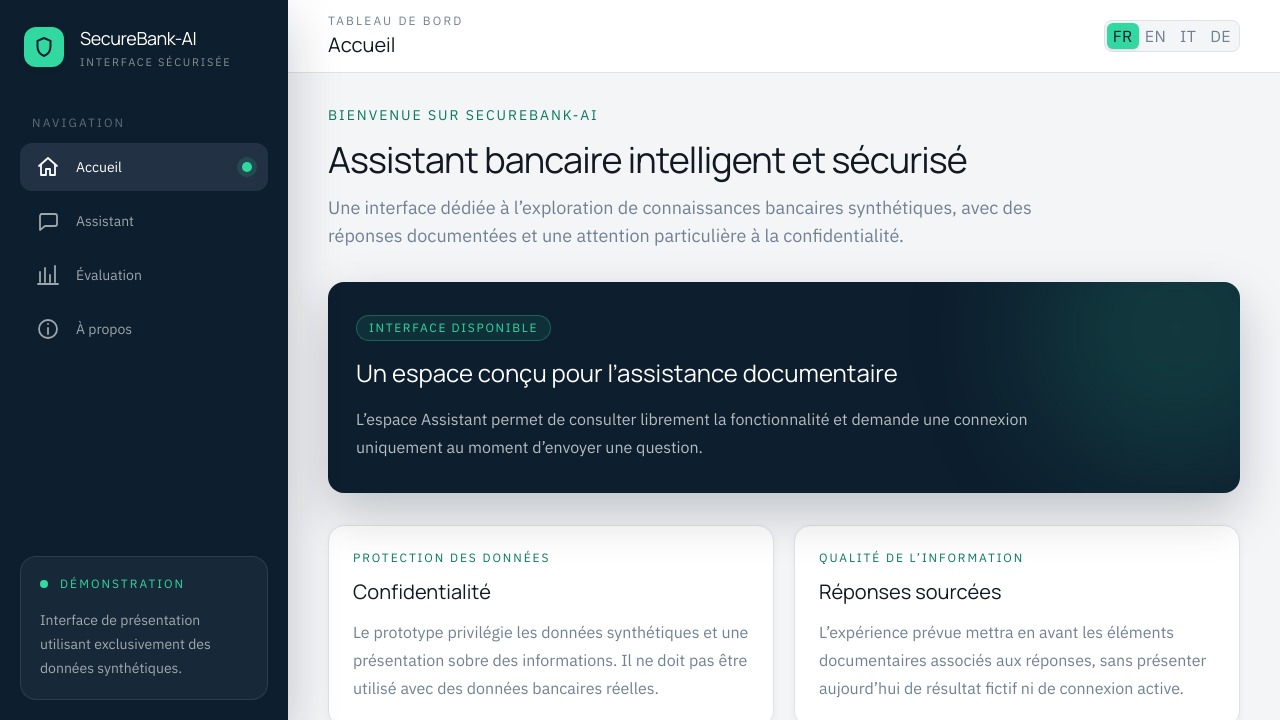
Test case: App navigation › navigates to the public About page
Step 1. Click the link "À propos" → x=84, y=328, box x1=36 y1=316 x2=132 y2=340
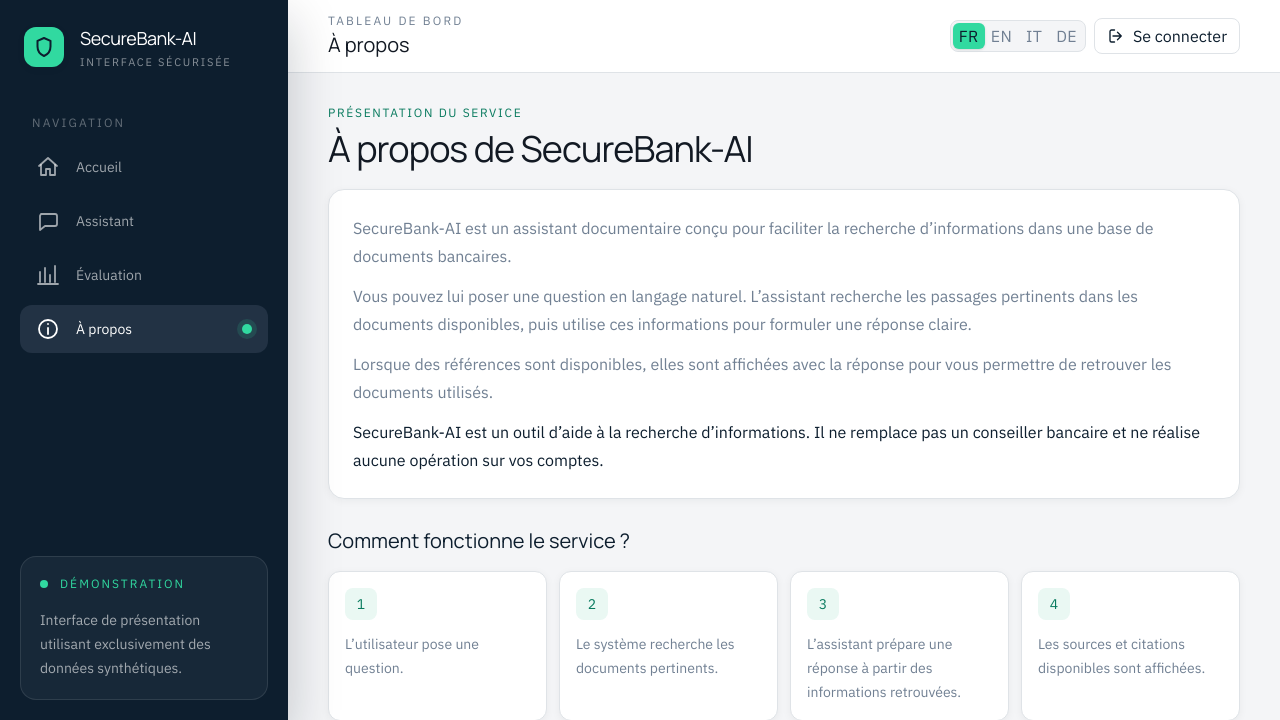
expect the heading "À propos de SecureBank-AI" is shown: met, box x1=328 y1=124 x2=753 y2=173
